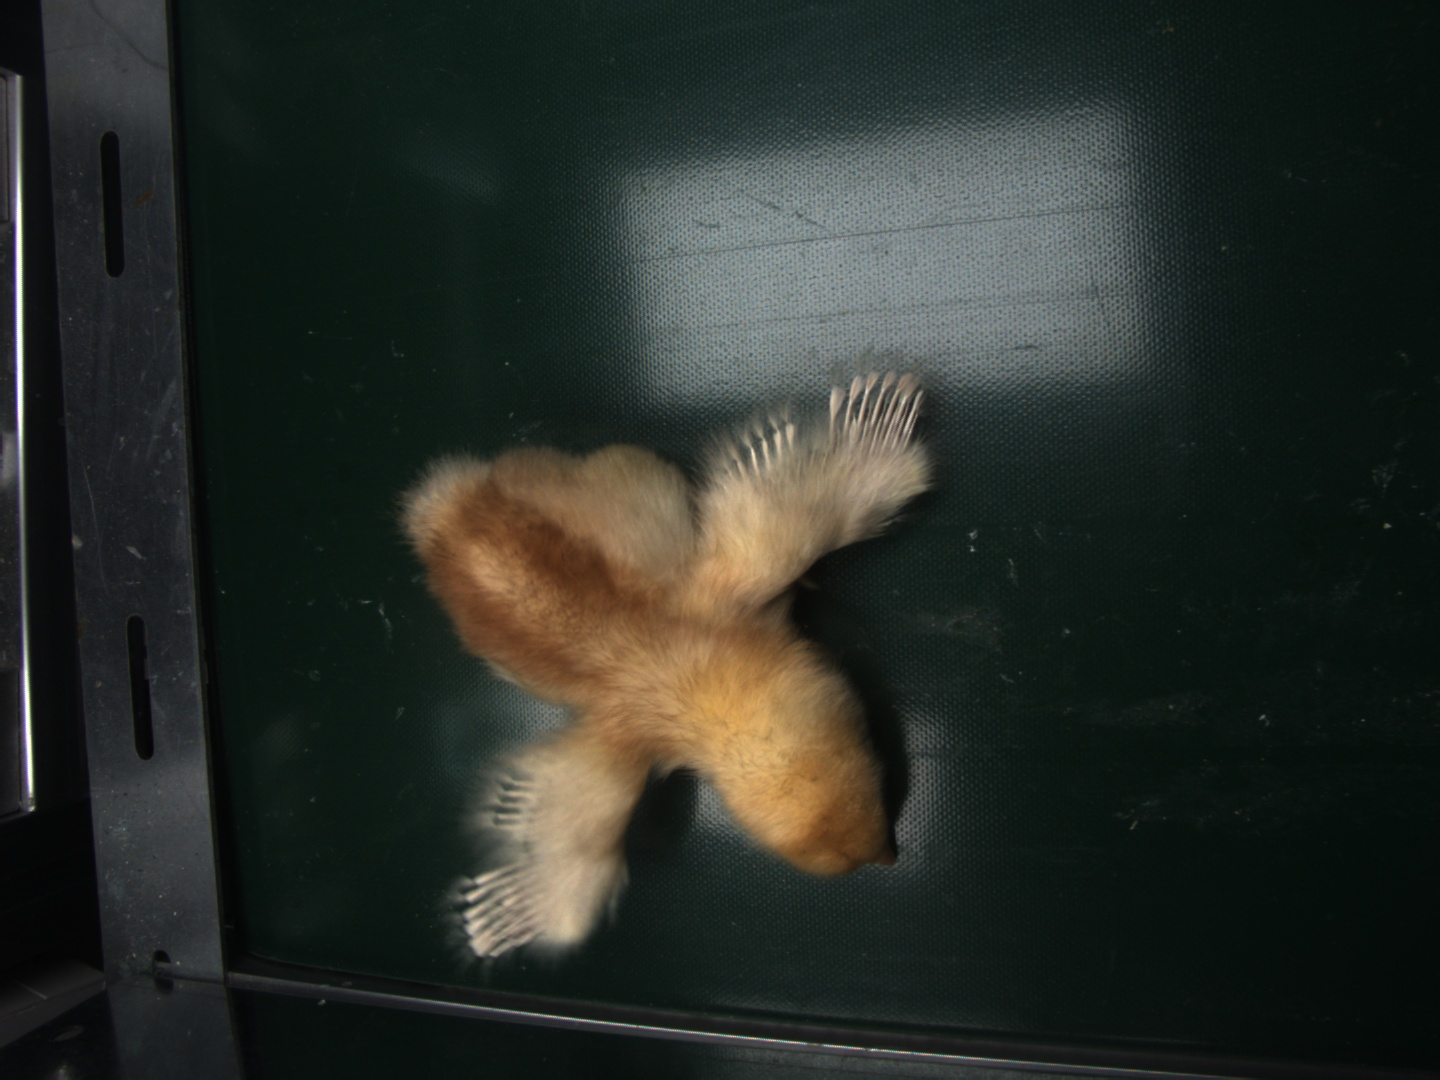female: (461, 867, 542, 960), (825, 371, 927, 444)
